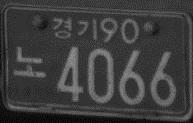0: (86, 47, 114, 105), (120, 18, 139, 45)
4: (57, 47, 83, 102)
6: (149, 51, 177, 107), (117, 49, 144, 107)
9: (100, 16, 118, 42)
경기_O: (52, 17, 97, 42)
노: (12, 45, 46, 79)
